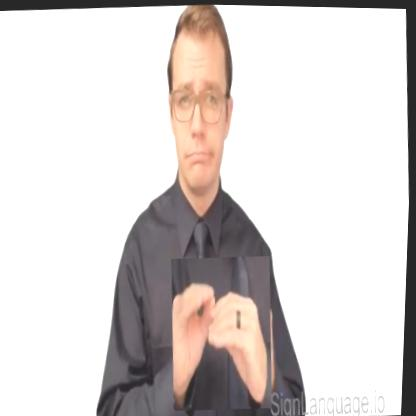Fix: (169, 253, 279, 412)
